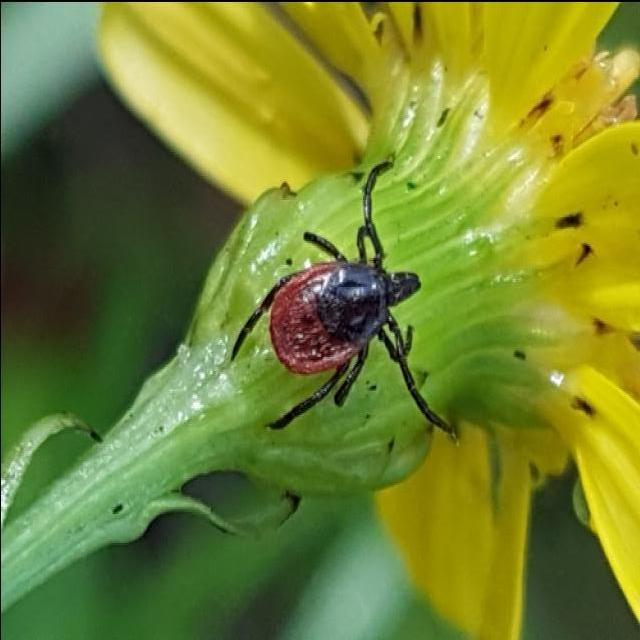Ixodes Ricinus-F: (229, 157, 457, 444)
